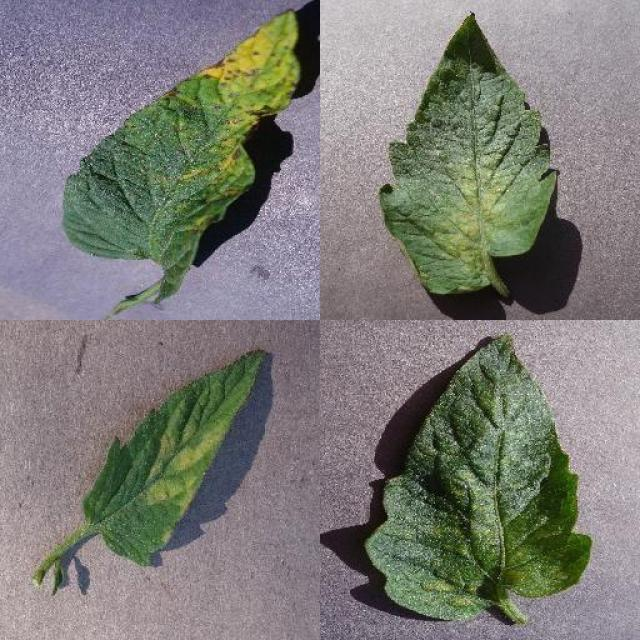Septoria: (62, 11, 302, 309)
